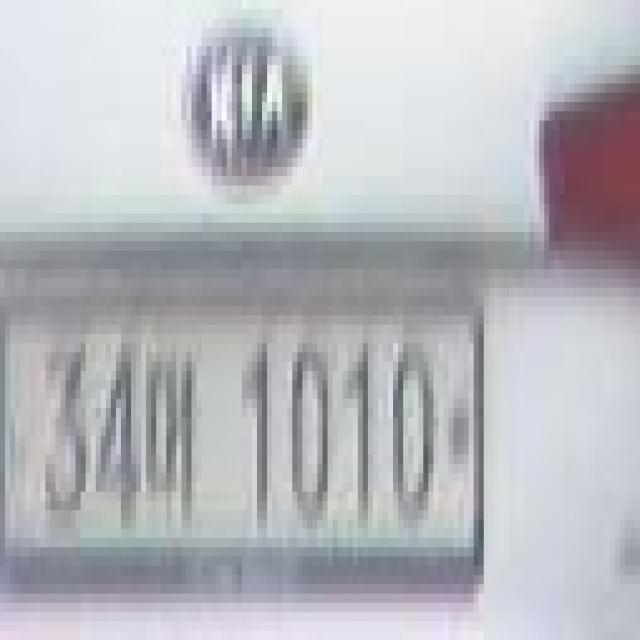plat: (0, 290, 489, 610)
